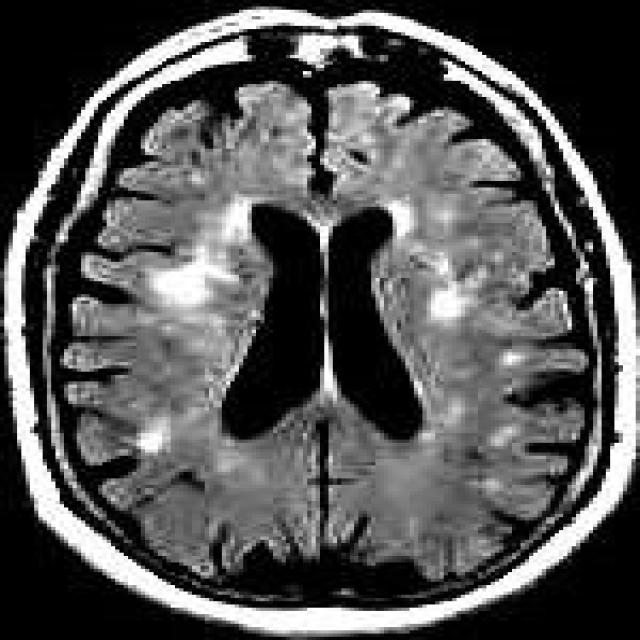notumor: (4, 6, 636, 634), (521, 52, 533, 65)
